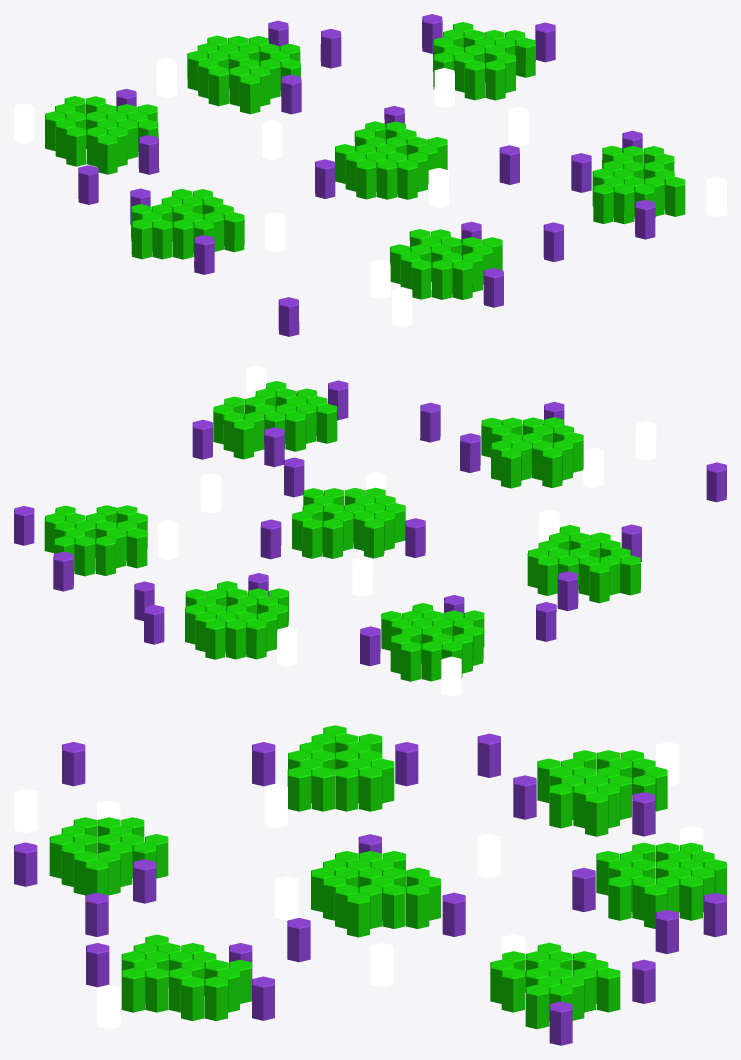
The model's file is normal map grid9 updated.glb.
The picture shows the model from 3 angles, top to bottom: view 1: azimuth 30°, elevation 25°; view 2: azimuth 150°, elevation 25°; view 3: azimuth 270°, elevation 25°; orthographic projection. The views are drawn at different scales.
Visible parts, largest first — view 1: Cylinder.212, Cylinder.291, Cylinder.298, Cylinder.194, Cylinder.154, Cylinder.302, Cylinder.260, Cylinder.172, Cylinder.197, Cylinder.249, Cylinder.250, Cylinder.159 (+32 smaller); view 2: Cylinder.232, Cylinder.297, Cylinder.205, Cylinder.167, Cylinder.264, Cylinder.304, Cylinder.214, Cylinder.161, Cylinder.183, Cylinder.211, Cylinder.272, Cylinder.287 (+33 smaller); view 3: Cylinder.292, Cylinder.266, Cylinder.295, Cylinder.181, Cylinder.199, Cylinder.207, Cylinder.271, Cylinder.177, Cylinder.218, Cylinder.242, Cylinder.243, Cylinder.176 (+59 smaller).
Boxes of the visible parts, <box> form: Cylinder.212: <box>613,184,634,224</box>; Cylinder.291: <box>239,74,260,114</box>; Cylinder.298: <box>320,28,341,68</box>; Cylinder.194: <box>376,159,397,199</box>; Cylinder.154: <box>431,260,452,299</box>; Cylinder.302: <box>278,297,299,336</box>; Cylinder.260: <box>66,126,86,166</box>; Cylinder.172: <box>152,219,172,259</box>; Cylinder.197: <box>356,159,376,199</box>; Cylinder.249: <box>485,60,505,100</box>; Cylinder.250: <box>464,60,484,100</box>; Cylinder.159: <box>452,260,472,299</box>; Cylinder.232: <box>74,536,95,576</box>; Cylinder.297: <box>200,473,221,513</box>; Cylinder.205: <box>260,519,281,559</box>; Cylinder.167: <box>557,571,578,611</box>; Cylinder.264: <box>400,641,421,681</box>; Cylinder.304: <box>635,421,656,460</box>; Cylinder.214: <box>316,403,337,443</box>; Cylinder.161: <box>501,448,521,488</box>; Cylinder.183: <box>620,555,640,595</box>; Cylinder.211: <box>285,411,305,451</box>; Cylinder.272: <box>421,641,441,681</box>; Cylinder.287: <box>246,619,266,659</box>; Cylinder.292: <box>608,876,631,920</box>; Cylinder.266: <box>585,792,608,836</box>; Cylinder.295: <box>679,876,702,920</box>; Cylinder.181: <box>359,767,382,811</box>; Cylinder.199: <box>382,884,405,928</box>; Cylinder.207: <box>406,884,429,928</box>; Cylinder.271: <box>549,784,572,828</box>; Cylinder.177: <box>335,767,358,811</box>; Cylinder.218: <box>145,968,168,1012</box>; Cylinder.242: <box>597,968,620,1012</box>; Cylinder.243: <box>501,968,524,1012</box>; Cylinder.176: <box>311,767,334,811</box>.
Size of what is drawn, in the model's own units: 31.05 by 1.91 by 32.57.
